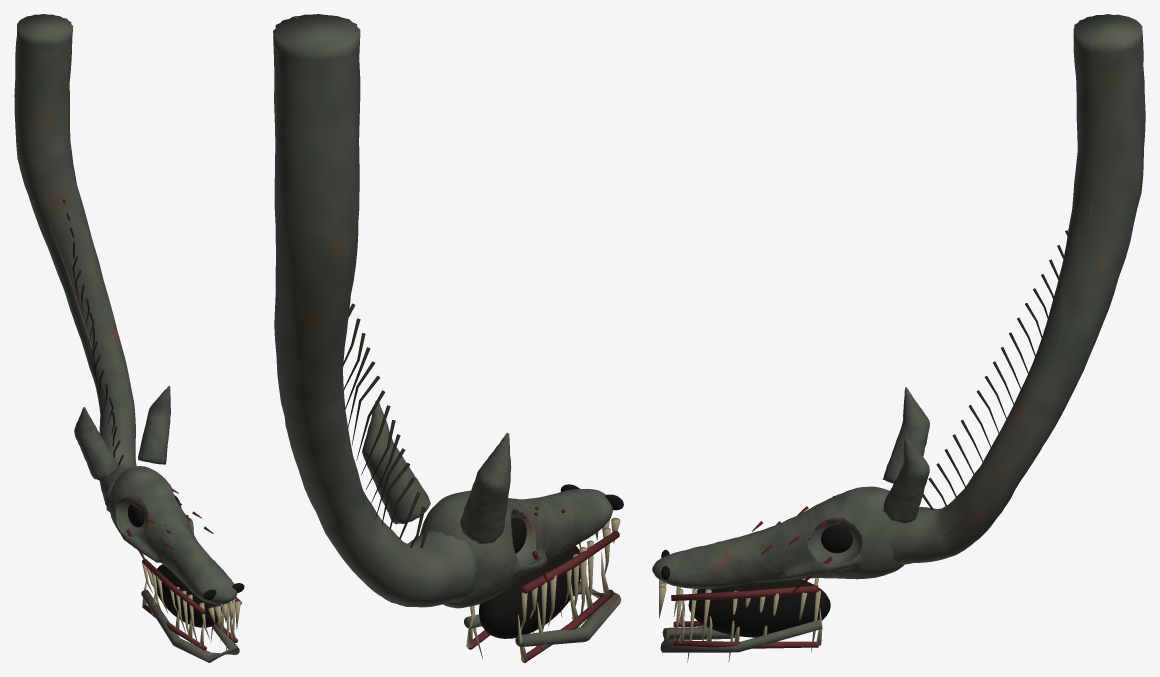
The model's file is vent-dweller.glb.
3 renders of one model, left to right at view 1: azimuth 30°, elevation 25°; view 2: azimuth 150°, elevation 25°; view 3: azimuth 270°, elevation 25°, orthographic. The views are drawn at different scales.
Visible parts, largest first — view 1: Mottledcadaverskin, Yellowrottenenamel, Deepwetsockets, Sparsegreasymane, Splitburgundygums; view 2: Mottledcadaverskin, Deepwetsockets, Yellowrottenenamel, Sparsegreasymane, Splitburgundygums; view 3: Mottledcadaverskin, Deepwetsockets, Yellowrottenenamel, Splitburgundygums, Sparsegreasymane.
Part boxes in pixels (bbox=[...]): Mottledcadaverskin: bbox=[14, 14, 239, 662]; Yellowrottenenamel: bbox=[142, 563, 240, 655]; Deepwetsockets: bbox=[128, 495, 244, 627]; Sparsegreasymane: bbox=[63, 199, 123, 465]; Splitburgundygums: bbox=[142, 559, 241, 650]; Mottledcadaverskin: bbox=[273, 14, 621, 646]; Deepwetsockets: bbox=[479, 484, 623, 638]; Yellowrottenenamel: bbox=[466, 517, 620, 661]; Sparsegreasymane: bbox=[343, 303, 430, 547]; Splitburgundygums: bbox=[468, 531, 619, 662]; Mottledcadaverskin: bbox=[652, 14, 1145, 652]; Deepwetsockets: bbox=[661, 525, 852, 637]; Yellowrottenenamel: bbox=[659, 578, 822, 662]; Splitburgundygums: bbox=[671, 585, 818, 648]; Sparsegreasymane: bbox=[922, 230, 1068, 509].
Size of the model in its own units: 0.5403 by 2.82 by 2.01.
